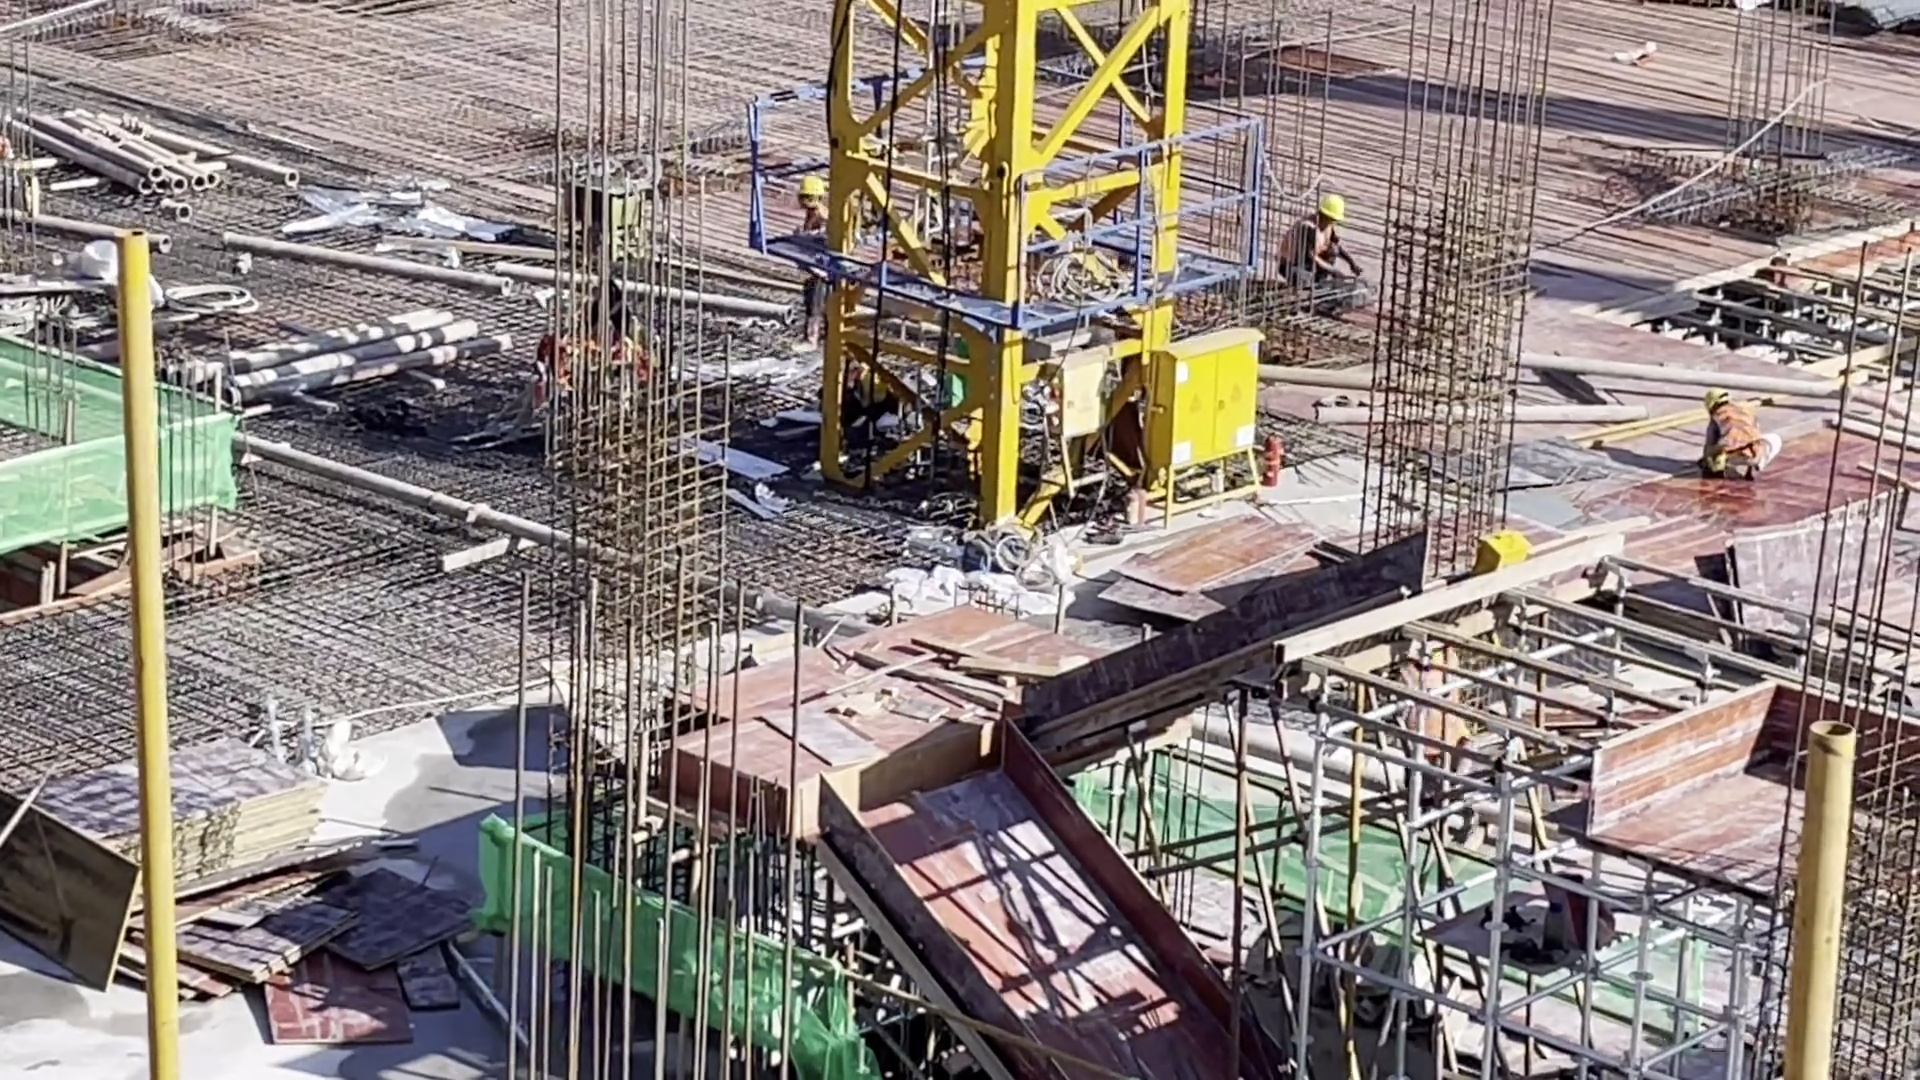board: (174, 871, 479, 1053), (26, 729, 329, 890)
ebox: (1163, 326, 1273, 523), (1046, 344, 1127, 523), (1473, 524, 1537, 572)
helmet: (1330, 198, 1359, 225), (795, 174, 823, 198)
person: (1389, 626, 1465, 758), (794, 172, 840, 356), (1288, 192, 1367, 295), (1692, 384, 1778, 473)
vest: (1708, 397, 1758, 452)
